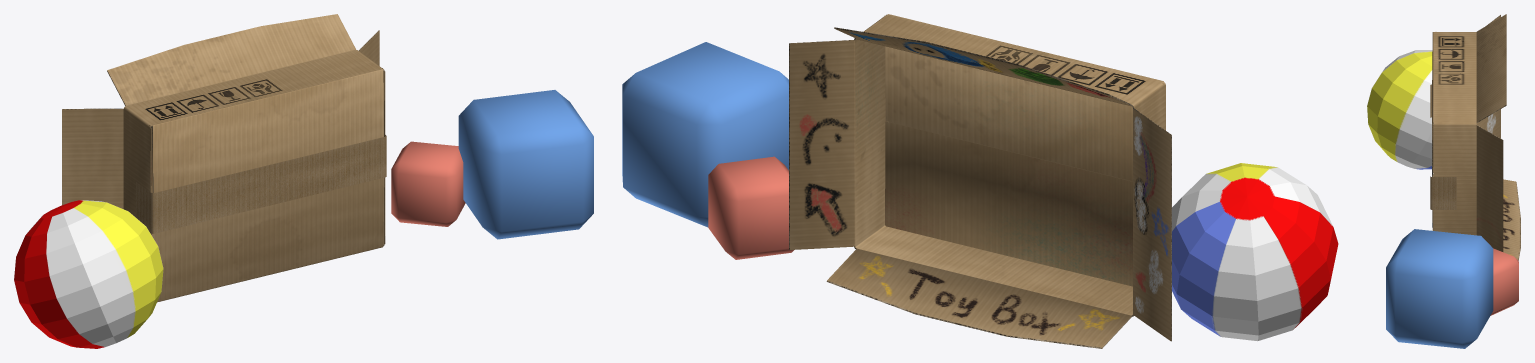
The model's file is ToyBox 1.fbx.
3 views of the same model, side by side, from view 1: azimuth 30°, elevation 25°; view 2: azimuth 150°, elevation 25°; view 3: azimuth 270°, elevation 25° (orthographic). The views are drawn at different scales.
Parts seen in each view (by area): view 1: Cardboard, Beach Ball, BlueCube, RedCube; view 2: Cardboard, Beach Ball, BlueCube, RedCube; view 3: Cardboard, BlueCube, Beach Ball, RedCube.
Boxes of the visible parts, x1,y1,x2,y2 form: Cardboard: (62, 14, 386, 302); Beach Ball: (14, 200, 163, 348); BlueCube: (458, 90, 593, 239); RedCube: (391, 141, 465, 226); Cardboard: (789, 14, 1171, 348); Beach Ball: (1172, 163, 1338, 341); BlueCube: (622, 42, 788, 227); RedCube: (708, 156, 793, 259); Cardboard: (1430, 14, 1520, 260); BlueCube: (1386, 229, 1493, 348); Beach Ball: (1367, 50, 1432, 169); RedCube: (1490, 248, 1518, 315).
Size of the model in its own units: 8380 by 3179 by 2436.
